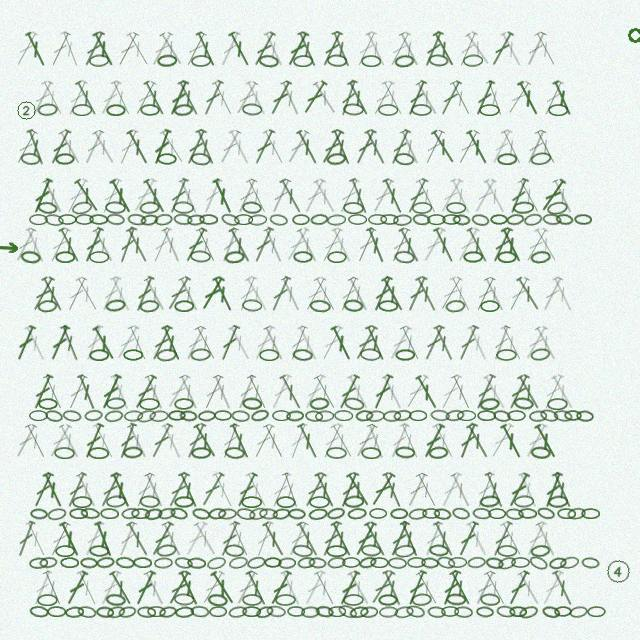chain: (528, 554, 549, 572), (546, 200, 569, 216), (337, 603, 358, 620), (71, 200, 93, 216), (343, 396, 365, 412), (220, 212, 241, 228), (136, 408, 157, 424), (206, 555, 227, 571), (518, 604, 539, 620), (530, 151, 552, 166), (497, 555, 517, 571), (255, 604, 275, 620), (105, 298, 126, 313), (530, 347, 551, 362), (513, 396, 534, 411), (248, 506, 269, 521), (156, 543, 177, 558), (228, 555, 249, 570), (246, 555, 267, 570), (559, 555, 580, 570), (405, 604, 426, 619), (309, 299, 331, 313), (394, 544, 416, 558), (523, 212, 543, 227), (250, 408, 270, 423), (539, 408, 559, 423), (157, 506, 177, 521), (169, 506, 189, 521), (326, 506, 346, 521), (451, 506, 471, 521), (536, 506, 556, 521), (358, 555, 378, 570), (436, 555, 456, 570), (258, 54, 279, 68), (394, 54, 415, 68), (173, 103, 194, 117), (20, 152, 41, 166), (190, 152, 211, 166), (326, 152, 347, 166), (394, 152, 415, 166), (37, 201, 58, 215), (20, 250, 41, 264), (224, 250, 245, 264), (394, 250, 415, 264), (530, 250, 551, 264), (37, 299, 58, 313), (139, 299, 160, 313), (445, 299, 466, 313), (156, 348, 177, 362), (292, 348, 313, 362), (479, 397, 500, 411), (224, 446, 245, 460), (292, 544, 313, 558), (530, 544, 551, 558), (105, 593, 126, 607), (207, 593, 228, 607), (44, 213, 64, 227), (44, 409, 64, 423), (62, 409, 82, 423), (104, 409, 124, 423), (492, 409, 512, 423), (553, 409, 573, 423), (47, 507, 67, 521), (191, 507, 211, 521), (236, 507, 256, 521), (308, 507, 328, 521), (408, 507, 428, 521), (548, 556, 568, 570), (77, 605, 97, 619), (106, 605, 126, 619), (158, 605, 178, 619), (228, 605, 248, 619), (349, 605, 369, 619), (394, 605, 414, 619), (541, 605, 561, 619), (428, 54, 449, 67), (37, 103, 58, 116), (343, 103, 364, 116), (105, 201, 126, 214), (139, 201, 160, 214), (173, 201, 194, 214), (513, 201, 534, 214), (190, 250, 211, 263), (343, 299, 364, 312), (190, 348, 211, 361), (360, 348, 381, 361), (309, 397, 330, 410), (428, 446, 449, 459), (530, 446, 551, 459), (139, 495, 160, 508), (479, 495, 500, 508), (224, 544, 245, 557), (411, 593, 432, 606), (140, 213, 159, 227), (269, 213, 288, 227), (471, 213, 490, 227), (144, 507, 163, 521), (272, 507, 291, 521), (433, 507, 452, 521), (174, 556, 193, 570), (485, 556, 504, 570), (118, 605, 137, 619), (569, 605, 588, 619), (89, 54, 109, 67), (157, 54, 177, 67), (327, 54, 347, 67), (463, 54, 483, 67), (242, 103, 262, 116), (242, 201, 262, 214), (127, 213, 147, 226), (173, 213, 193, 226), (542, 213, 562, 226), (242, 299, 262, 312), (106, 397, 126, 410), (242, 397, 262, 410), (430, 409, 450, 422), (445, 409, 465, 422), (123, 446, 143, 459), (395, 446, 415, 459), (106, 495, 126, 508), (344, 495, 364, 508), (514, 495, 534, 508), (548, 495, 568, 508), (80, 507, 100, 520), (347, 507, 367, 520), (472, 507, 492, 520), (361, 544, 381, 557), (429, 544, 449, 557), (115, 556, 135, 569), (174, 593, 194, 606), (446, 593, 466, 606), (480, 593, 500, 606), (29, 605, 49, 618), (190, 605, 210, 618), (266, 605, 286, 618), (496, 605, 516, 618), (411, 104, 432, 116), (479, 104, 500, 116), (343, 202, 364, 214), (496, 349, 517, 361), (139, 398, 160, 410), (547, 398, 568, 410), (54, 447, 75, 459), (88, 447, 109, 459), (326, 447, 347, 459), (241, 496, 262, 508), (309, 496, 330, 508), (326, 545, 347, 557), (37, 594, 58, 606), (275, 594, 296, 606), (343, 594, 364, 606), (106, 213, 125, 226), (154, 213, 173, 226), (310, 213, 329, 226), (412, 213, 431, 226), (506, 213, 525, 226), (555, 213, 574, 226), (84, 409, 103, 422), (355, 409, 374, 422), (393, 409, 412, 422), (121, 507, 140, 520), (208, 507, 227, 520), (567, 507, 586, 520), (39, 556, 58, 569), (96, 556, 115, 569), (297, 556, 316, 569), (327, 556, 346, 569), (467, 556, 486, 569), (315, 605, 334, 618), (191, 55, 211, 67), (293, 55, 313, 67), (361, 55, 381, 67), (72, 104, 92, 116), (106, 104, 126, 116), (140, 104, 160, 116), (378, 104, 398, 116), (548, 104, 568, 116), (55, 153, 75, 165), (157, 153, 177, 165), (497, 153, 517, 165), (412, 202, 432, 214), (446, 202, 466, 214), (55, 251, 75, 263), (89, 251, 109, 263), (293, 251, 313, 263), (327, 251, 347, 263), (463, 251, 483, 263), (497, 251, 517, 263), (174, 300, 194, 312), (378, 300, 398, 312), (480, 300, 500, 312), (89, 349, 109, 361), (123, 349, 143, 361), (259, 349, 279, 361), (395, 349, 415, 361), (38, 398, 58, 410), (174, 398, 194, 410), (149, 410, 169, 422), (191, 447, 211, 459), (361, 447, 381, 459), (72, 496, 92, 508), (174, 496, 194, 508), (276, 496, 296, 508), (55, 545, 75, 557), (89, 545, 109, 557), (497, 545, 517, 557), (242, 594, 262, 606), (378, 594, 398, 606), (248, 214, 267, 226), (327, 214, 346, 226), (393, 214, 412, 226), (452, 214, 471, 226), (124, 410, 143, 422), (179, 410, 198, 422), (231, 410, 250, 422), (315, 410, 334, 422), (366, 410, 385, 422), (218, 508, 237, 520), (259, 508, 278, 520), (505, 508, 524, 520), (29, 557, 48, 569), (154, 557, 173, 569), (187, 557, 206, 569), (308, 557, 327, 569), (388, 557, 407, 569), (581, 557, 600, 569), (65, 606, 84, 618), (137, 606, 156, 618), (175, 606, 194, 618), (301, 606, 320, 618), (379, 606, 398, 618), (427, 606, 446, 618), (454, 606, 473, 618), (187, 214, 205, 226), (198, 410, 216, 422), (286, 410, 304, 422), (305, 410, 323, 422), (383, 410, 401, 422), (529, 410, 547, 422), (576, 410, 594, 422), (30, 508, 48, 520), (288, 508, 306, 520), (80, 557, 98, 569), (278, 557, 296, 569), (421, 557, 439, 569), (96, 606, 114, 618), (360, 606, 378, 618), (476, 606, 494, 618), (29, 214, 48, 225), (58, 214, 77, 225), (75, 214, 94, 225), (89, 214, 108, 225), (199, 214, 218, 225), (234, 214, 253, 225), (348, 214, 367, 225), (368, 214, 387, 225), (380, 214, 399, 225), (427, 214, 446, 225), (442, 214, 461, 225), (29, 410, 48, 421), (272, 410, 291, 421), (334, 410, 353, 421), (457, 410, 476, 421), (477, 410, 496, 421), (507, 410, 526, 421), (69, 508, 88, 519), (100, 508, 119, 519), (131, 508, 150, 519), (518, 508, 537, 519), (557, 508, 576, 519), (581, 508, 600, 519), (60, 557, 79, 568), (133, 557, 152, 568), (370, 557, 389, 568), (407, 557, 426, 568), (448, 557, 467, 568), (511, 557, 530, 568), (47, 606, 66, 617), (147, 606, 166, 617), (242, 606, 261, 617), (587, 606, 606, 617), (292, 214, 310, 225), (490, 214, 508, 225), (574, 214, 592, 225), (168, 410, 186, 421), (214, 410, 232, 421), (409, 410, 427, 421), (564, 410, 582, 421), (369, 508, 387, 519), (390, 508, 408, 519), (422, 508, 440, 519), (488, 508, 506, 519), (264, 557, 282, 568), (342, 557, 360, 568), (209, 606, 227, 617), (287, 606, 305, 617), (328, 606, 346, 617), (441, 606, 459, 617), (509, 606, 527, 617), (554, 606, 572, 617)
double: (463, 30, 493, 67), (310, 79, 340, 116), (157, 128, 187, 165), (72, 177, 102, 214), (538, 177, 568, 214), (208, 569, 238, 606), (232, 79, 261, 117), (157, 30, 186, 67), (300, 79, 329, 116), (504, 79, 533, 116), (429, 128, 458, 165), (130, 177, 159, 214), (283, 226, 312, 263), (164, 275, 193, 312), (198, 275, 227, 312), (436, 275, 465, 312), (514, 275, 543, 312), (113, 324, 142, 361), (164, 373, 193, 410), (402, 373, 431, 410), (191, 422, 220, 459), (487, 422, 516, 459), (198, 471, 227, 508), (344, 471, 373, 508), (368, 471, 397, 508), (191, 520, 220, 557), (198, 569, 227, 606), (368, 569, 397, 606), (12, 30, 40, 68), (124, 30, 152, 68), (148, 30, 176, 68), (250, 30, 278, 68), (430, 30, 458, 68), (488, 30, 516, 68), (131, 79, 159, 117), (369, 79, 397, 117), (413, 79, 441, 117), (12, 128, 40, 166), (56, 128, 84, 166), (90, 128, 118, 166), (124, 128, 152, 166), (216, 128, 244, 166), (284, 128, 312, 166), (318, 128, 346, 166), (454, 128, 482, 166), (107, 177, 135, 215), (141, 177, 169, 215), (277, 177, 305, 215), (311, 177, 339, 215), (369, 177, 397, 215), (437, 177, 465, 215), (471, 177, 499, 215), (481, 177, 509, 215), (515, 177, 543, 215), (226, 226, 254, 264), (420, 226, 448, 264), (454, 226, 482, 264), (522, 226, 550, 264), (532, 226, 560, 264), (29, 275, 57, 313), (73, 275, 101, 313), (141, 275, 169, 313), (243, 275, 271, 313), (301, 275, 329, 313), (311, 275, 339, 313), (379, 275, 407, 313), (90, 324, 118, 362), (226, 324, 254, 362), (352, 324, 380, 362), (386, 324, 414, 362), (522, 324, 550, 362), (532, 324, 560, 362), (131, 373, 159, 411), (277, 373, 305, 411), (311, 373, 339, 411), (413, 373, 441, 411), (481, 373, 509, 411), (515, 373, 543, 411), (549, 373, 577, 411), (12, 422, 40, 460), (46, 422, 74, 460), (328, 422, 356, 460), (352, 422, 380, 460), (464, 422, 492, 460), (522, 422, 550, 460), (532, 422, 560, 460), (301, 471, 329, 509), (124, 520, 152, 558), (148, 520, 176, 558), (182, 520, 210, 558), (260, 520, 288, 558), (294, 520, 322, 558), (107, 569, 135, 607), (165, 569, 193, 607), (345, 569, 373, 607), (413, 569, 441, 607), (481, 569, 509, 607), (515, 569, 543, 607), (90, 30, 117, 68), (114, 30, 141, 68), (182, 30, 209, 68), (226, 30, 253, 68), (284, 30, 311, 68), (386, 30, 413, 68), (396, 30, 423, 68), (498, 30, 525, 68), (532, 30, 559, 68), (29, 79, 56, 117), (39, 79, 66, 117), (73, 79, 100, 117), (97, 79, 124, 117), (141, 79, 168, 117), (175, 79, 202, 117), (209, 79, 236, 117), (243, 79, 270, 117), (267, 79, 294, 117), (345, 79, 372, 117), (379, 79, 406, 117), (437, 79, 464, 117), (447, 79, 474, 117), (515, 79, 542, 117), (226, 128, 253, 166), (260, 128, 287, 166), (294, 128, 321, 166), (352, 128, 379, 166), (362, 128, 389, 166), (464, 128, 491, 166), (488, 128, 515, 166), (498, 128, 525, 166), (532, 128, 559, 166), (63, 177, 90, 215), (243, 177, 270, 215), (301, 177, 328, 215), (335, 177, 362, 215), (413, 177, 440, 215), (12, 226, 39, 264), (46, 226, 73, 264), (56, 226, 83, 264), (90, 226, 117, 264), (124, 226, 151, 264), (182, 226, 209, 264), (294, 226, 321, 264), (318, 226, 345, 264), (396, 226, 423, 264), (464, 226, 491, 264), (498, 226, 525, 264), (39, 275, 66, 313), (63, 275, 90, 313), (345, 275, 372, 313), (413, 275, 440, 313), (447, 275, 474, 313), (481, 275, 508, 313), (505, 275, 532, 313), (539, 275, 566, 313), (22, 324, 49, 362), (148, 324, 175, 362), (182, 324, 209, 362), (192, 324, 219, 362), (318, 324, 345, 362), (328, 324, 355, 362), (498, 324, 525, 362), (301, 373, 328, 411), (335, 373, 362, 411), (345, 373, 372, 411), (379, 373, 406, 411), (437, 373, 464, 411), (505, 373, 532, 411), (22, 422, 49, 460), (56, 422, 83, 460), (90, 422, 117, 460), (124, 422, 151, 460), (148, 422, 175, 460), (250, 422, 277, 460), (260, 422, 287, 460), (420, 422, 447, 460), (430, 422, 457, 460), (498, 422, 525, 460), (73, 471, 100, 509), (97, 471, 124, 509), (165, 471, 192, 509), (233, 471, 260, 509), (243, 471, 270, 509), (413, 471, 440, 509), (505, 471, 532, 509), (46, 520, 73, 558), (328, 520, 355, 558), (352, 520, 379, 558), (362, 520, 389, 558), (464, 520, 491, 558), (498, 520, 525, 558), (63, 569, 90, 607), (97, 569, 124, 607), (141, 569, 168, 607), (233, 569, 260, 607), (243, 569, 270, 607), (267, 569, 294, 607), (301, 569, 328, 607), (311, 569, 338, 607), (447, 569, 474, 607), (505, 569, 532, 607), (539, 569, 566, 607), (23, 30, 49, 68), (47, 30, 73, 68), (81, 30, 107, 68), (193, 30, 219, 68), (217, 30, 243, 68), (261, 30, 287, 68), (319, 30, 345, 68), (353, 30, 379, 68), (363, 30, 389, 68), (523, 30, 549, 68), (64, 79, 90, 117), (108, 79, 134, 117), (200, 79, 226, 117), (540, 79, 566, 117), (47, 128, 73, 166), (81, 128, 107, 166), (115, 128, 141, 166), (183, 128, 209, 166), (251, 128, 277, 166), (387, 128, 413, 166), (397, 128, 423, 166), (421, 128, 447, 166), (523, 128, 549, 166), (40, 177, 66, 215), (98, 177, 124, 215), (210, 177, 236, 215), (234, 177, 260, 215), (268, 177, 294, 215), (380, 177, 406, 215), (404, 177, 430, 215), (448, 177, 474, 215), (550, 177, 576, 215), (193, 226, 219, 264), (329, 226, 355, 264), (353, 226, 379, 264), (387, 226, 413, 264), (431, 226, 457, 264), (489, 226, 515, 264), (98, 275, 124, 313), (108, 275, 134, 313), (176, 275, 202, 313), (210, 275, 236, 313), (278, 275, 304, 313), (404, 275, 430, 313), (472, 275, 498, 313), (550, 275, 576, 313), (251, 324, 277, 362), (261, 324, 287, 362), (295, 324, 321, 362), (397, 324, 423, 362), (421, 324, 447, 362), (431, 324, 457, 362), (455, 324, 481, 362), (465, 324, 491, 362), (40, 373, 66, 411), (64, 373, 90, 411), (98, 373, 124, 411), (176, 373, 202, 411), (200, 373, 226, 411), (244, 373, 270, 411), (268, 373, 294, 411), (448, 373, 474, 411), (472, 373, 498, 411), (540, 373, 566, 411), (159, 422, 185, 460), (183, 422, 209, 460), (227, 422, 253, 460), (295, 422, 321, 460), (319, 422, 345, 460), (30, 471, 56, 509), (40, 471, 66, 509), (108, 471, 134, 509), (210, 471, 236, 509), (312, 471, 338, 509), (404, 471, 430, 509), (438, 471, 464, 509), (448, 471, 474, 509), (23, 520, 49, 558), (57, 520, 83, 558), (81, 520, 107, 558), (159, 520, 185, 558), (285, 520, 311, 558), (431, 520, 457, 558), (455, 520, 481, 558), (489, 520, 515, 558), (523, 520, 549, 558), (533, 520, 559, 558), (74, 569, 100, 607), (132, 569, 158, 607), (176, 569, 202, 607), (278, 569, 304, 607), (336, 569, 362, 607), (472, 569, 498, 607), (550, 569, 576, 607), (295, 30, 320, 68), (329, 30, 354, 68), (421, 30, 446, 68), (455, 30, 480, 68), (166, 79, 191, 117), (278, 79, 303, 117), (404, 79, 429, 117), (472, 79, 497, 117), (550, 79, 575, 117), (193, 128, 218, 166), (329, 128, 354, 166), (30, 177, 55, 215), (166, 177, 191, 215), (176, 177, 201, 215), (200, 177, 225, 215), (506, 177, 531, 215), (23, 226, 48, 264), (81, 226, 106, 264), (149, 226, 174, 264), (159, 226, 184, 264), (251, 226, 276, 264), (261, 226, 286, 264), (132, 275, 157, 313), (268, 275, 293, 313), (336, 275, 361, 313), (370, 275, 395, 313), (13, 324, 38, 362), (47, 324, 72, 362), (125, 324, 150, 362), (159, 324, 184, 362), (217, 324, 242, 362), (363, 324, 388, 362), (30, 373, 55, 411), (108, 373, 133, 411), (142, 373, 167, 411), (210, 373, 235, 411), (234, 373, 259, 411), (370, 373, 395, 411), (81, 422, 106, 460), (387, 422, 412, 460), (397, 422, 422, 460), (64, 471, 89, 509), (132, 471, 157, 509), (142, 471, 167, 509), (176, 471, 201, 509), (268, 471, 293, 509), (380, 471, 405, 509), (482, 471, 507, 509), (516, 471, 541, 509), (550, 471, 575, 509), (115, 520, 140, 558), (217, 520, 242, 558), (227, 520, 252, 558), (319, 520, 344, 558), (387, 520, 412, 558), (397, 520, 422, 558), (421, 520, 446, 558), (30, 569, 55, 607), (40, 569, 65, 607), (380, 569, 405, 607), (404, 569, 429, 607), (58, 30, 82, 68), (24, 128, 48, 166), (150, 128, 174, 166), (347, 177, 371, 215), (218, 226, 242, 264), (364, 226, 388, 264), (235, 275, 259, 313), (58, 324, 82, 362), (82, 324, 106, 362), (286, 324, 310, 362), (75, 373, 99, 411), (218, 422, 242, 460), (286, 422, 310, 460), (364, 422, 388, 460), (456, 422, 480, 460), (337, 471, 361, 509), (473, 471, 497, 509), (541, 471, 565, 509), (14, 520, 38, 558), (92, 520, 116, 558), (252, 520, 276, 558), (439, 569, 463, 607), (337, 79, 360, 117), (483, 79, 506, 117), (116, 226, 139, 264), (490, 324, 513, 362), (116, 422, 139, 460), (279, 471, 302, 509)
noise: (604, 557, 632, 585), (15, 99, 37, 121), (626, 26, 640, 44), (0, 242, 20, 253)
